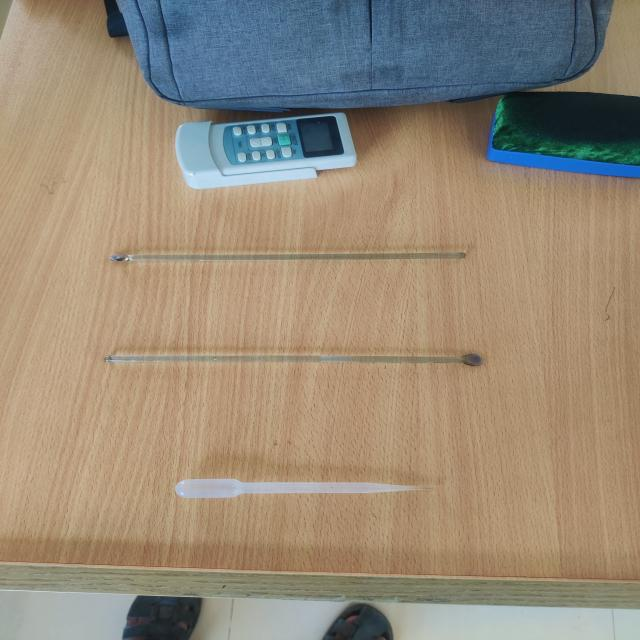Glass_Rod: (77, 316, 526, 400), (92, 236, 485, 286)
Pipette: (152, 453, 439, 533)
